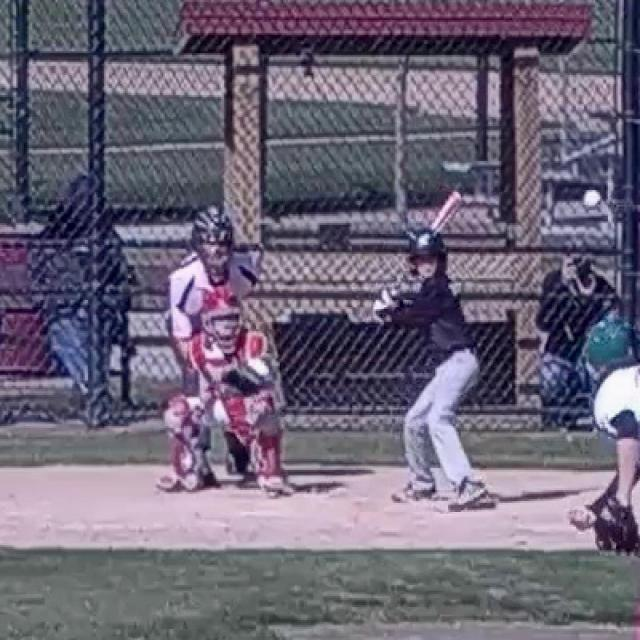baseball: (584, 191, 601, 209)
